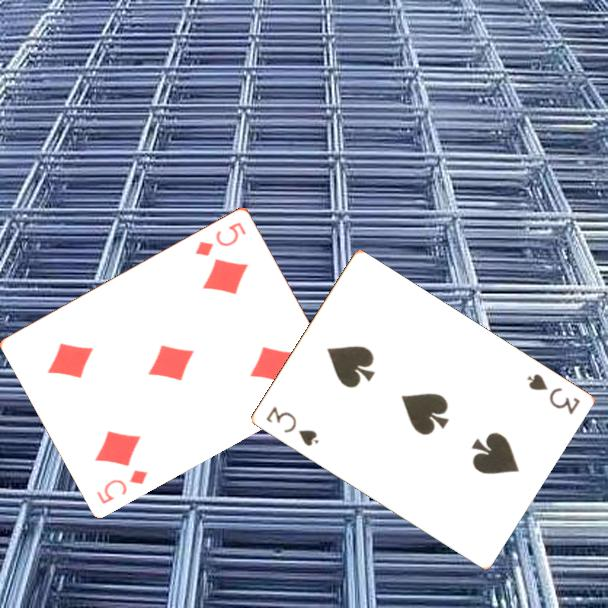d05: (191, 218, 249, 259), (93, 465, 151, 506)
s03: (523, 370, 582, 418), (262, 403, 321, 449)
